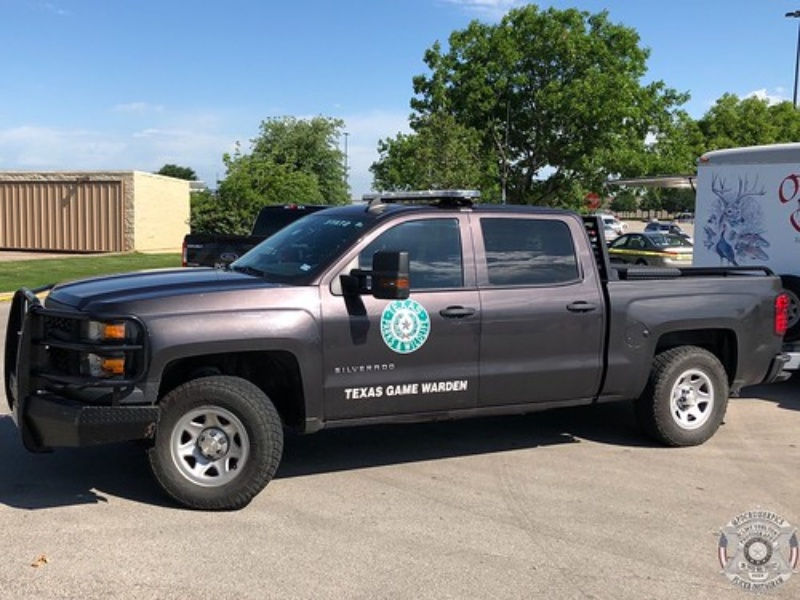policecar: (6, 186, 797, 481)
